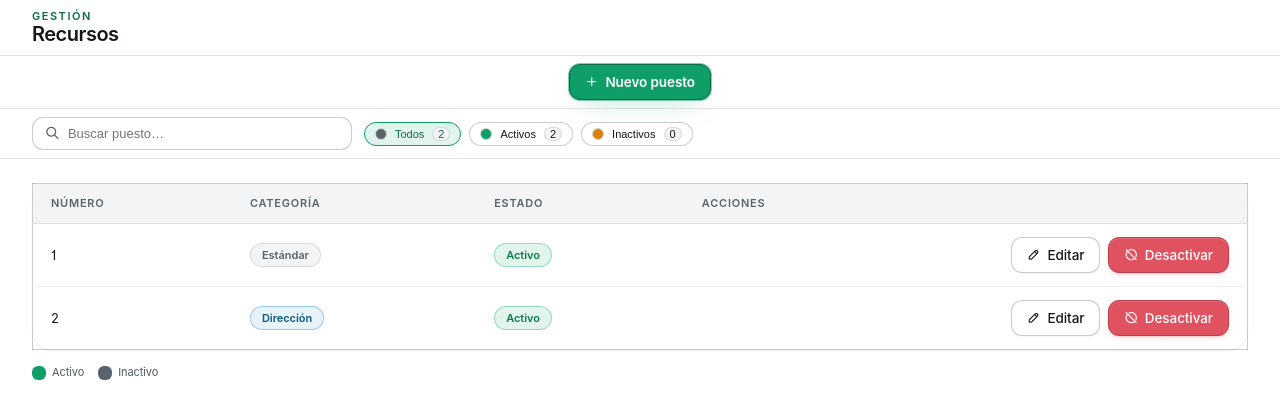
Test: DesksPage › should_filter_visible_rows_when_typing_in_search_box
Check: the cell "1" is shown, box top-left (32, 224), bottom-right (232, 286)
In the search field: (203, 134) top-left (68, 118), bottom-right (339, 149), type "2"
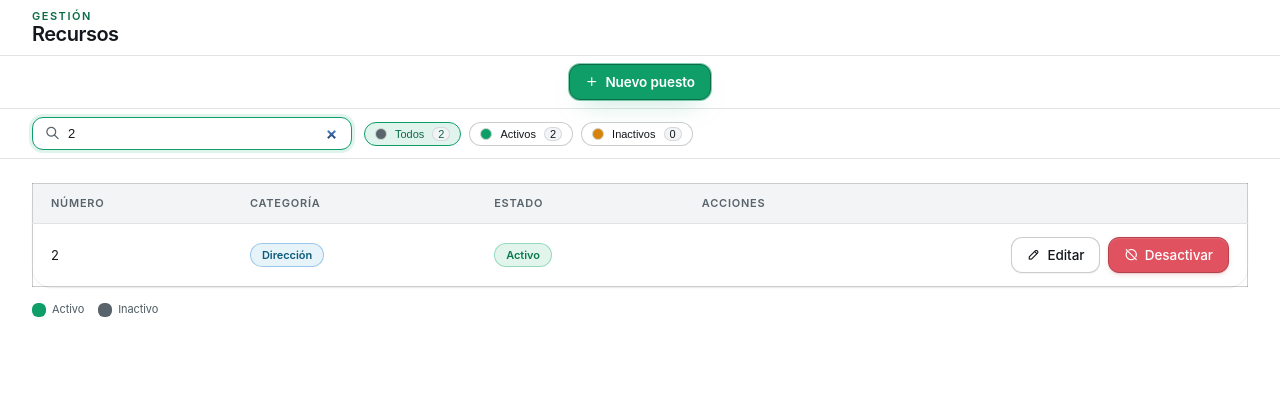
Check: the cell "2" is shown, box top-left (32, 224), bottom-right (232, 286)
Check: the cell "1" is gone
